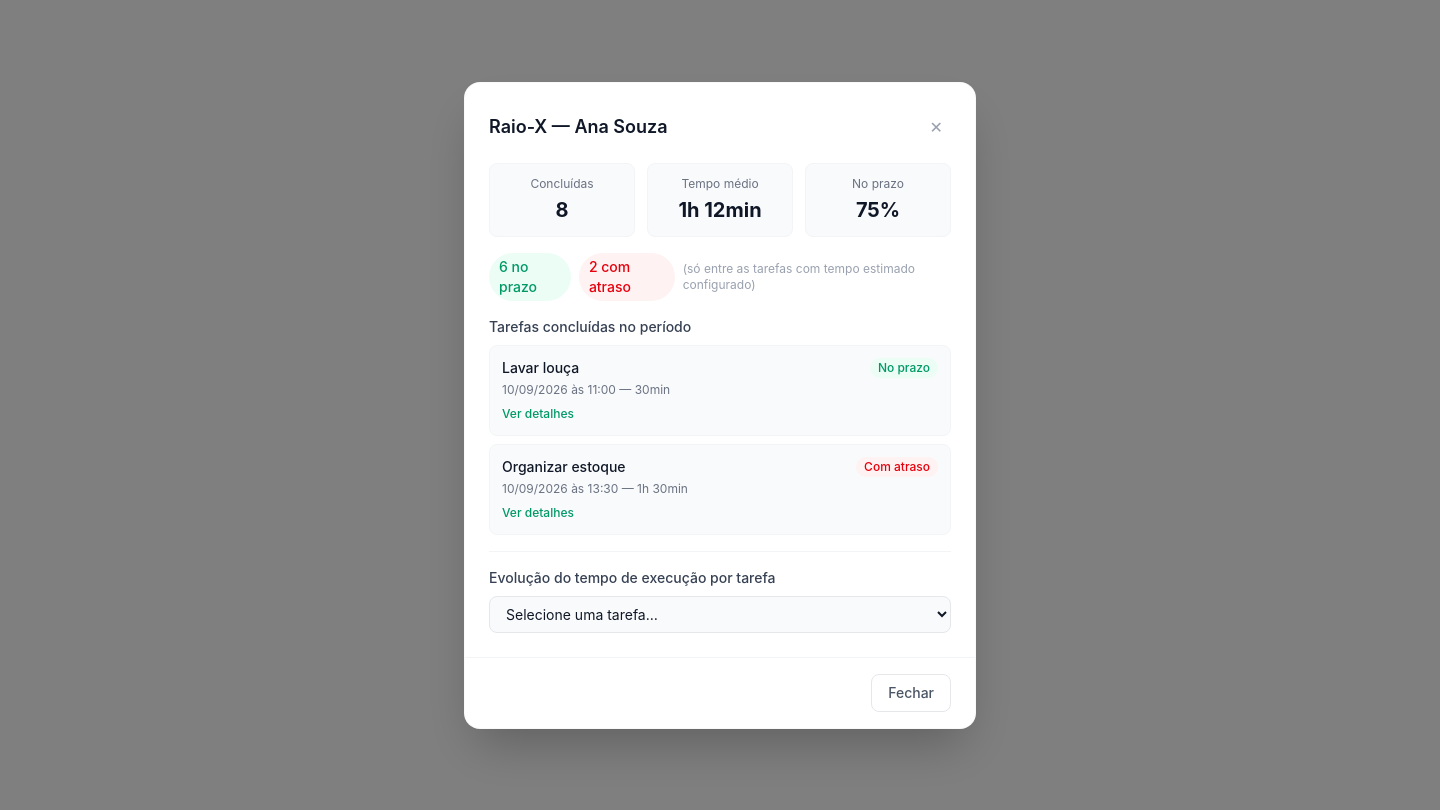
Scenario: EmployeeProfileModal › "Ver detalhes" abre o modal de timeline da execução
Click the button "Ver detalhes" below "10/09/2026 às 11:00".
click(538, 414)  # box [502,406,574,422]
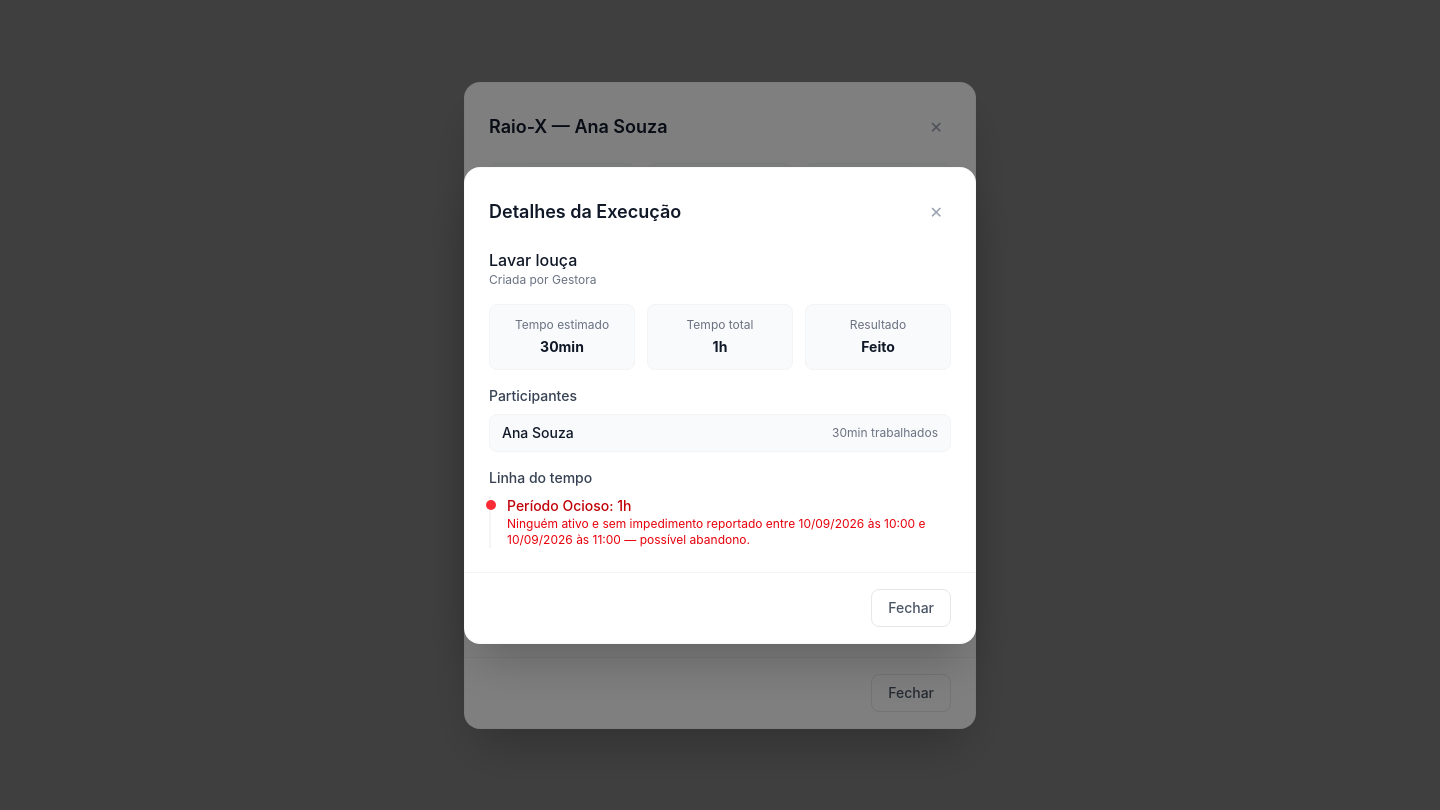
Now the heading "Detalhes da Execução" is shown, box [489,198,681,226]
